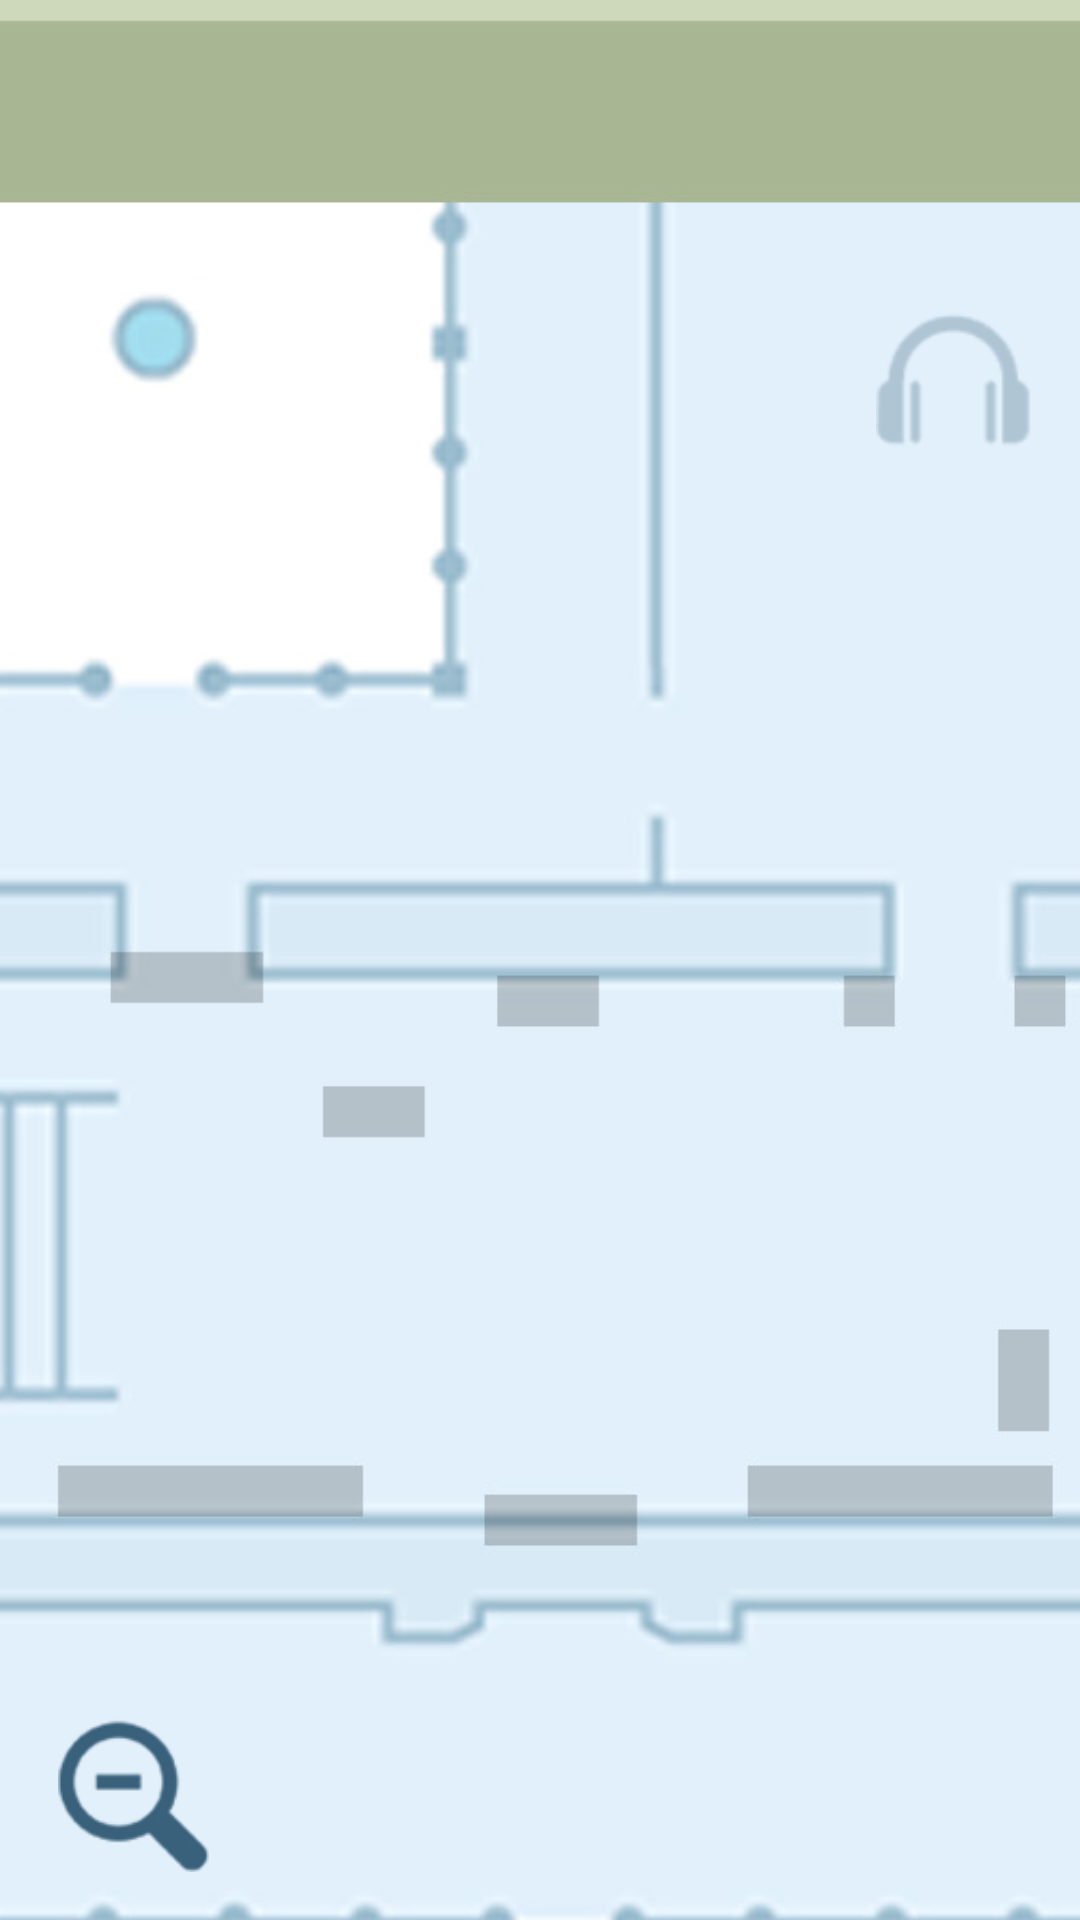

Named icons in this screenshot (1080w x 1920h) and their bounding boxes, {"x1": x1, "y1": y1, "x2": x2, "y2": y2}:
Podcast Inactive: {"x1": 877, "y1": 316, "x2": 1029, "y2": 443}
Zoom Out: {"x1": 58, "y1": 1721, "x2": 209, "y2": 1872}
